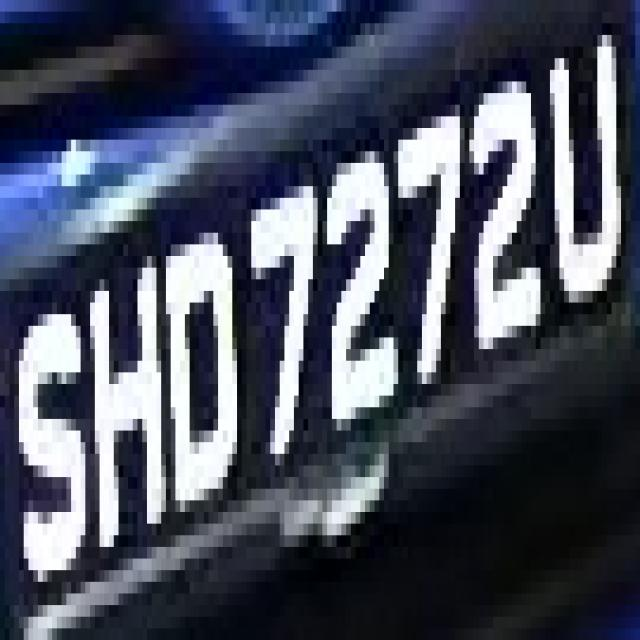2: (322, 140, 418, 466), (455, 82, 545, 396)
7: (232, 174, 332, 500), (379, 105, 484, 384)
D: (152, 198, 251, 535)
H: (80, 221, 176, 570)
S: (15, 267, 86, 594)
U: (540, 23, 636, 314)
